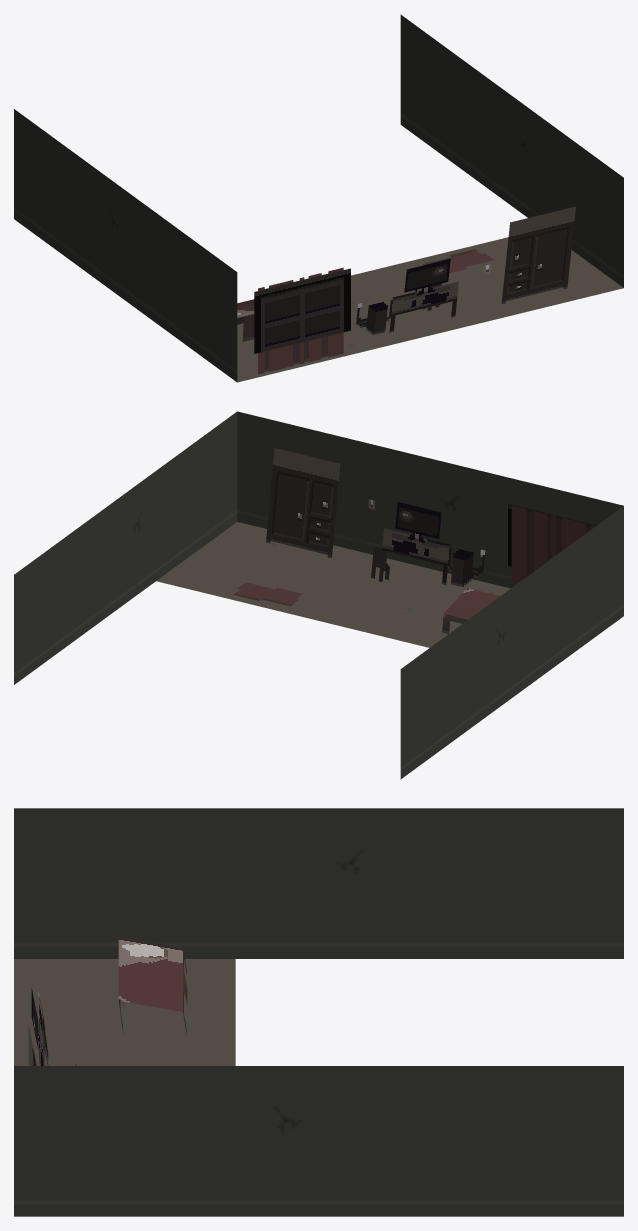
File: BedRoom.fbx
3 views of the same model, one above another, from view 1: azimuth 30°, elevation 25°; view 2: azimuth 150°, elevation 25°; view 3: azimuth 270°, elevation 25° (orthographic). The views are drawn at different scales.
Visible parts, largest first — view 1: BR_WallRight, BR_WallLeft, BR_Ground, BR_Window1, BR_Almira, BR_Computer, BR_Curtain, BR_Rug; view 2: BR_WallLeft, BR_WallRight, BR_Wall, BR_Ground, BR_Almira, BR_Computer, BR_Curtain, polySurface1, BR_Rug; view 3: BR_WallLeft, BR_WallRight, BR_Ground, polySurface1, BR_Computer.
Part boxes in pixels (x1,y1,x2,y2): BR_WallRight: (14, 109, 237, 382); BR_WallLeft: (400, 14, 623, 287); BR_Ground: (237, 237, 623, 382); BR_Window1: (254, 268, 350, 353); BR_Almira: (501, 206, 575, 304); BR_Computer: (356, 259, 458, 335); BR_Curtain: (258, 267, 343, 374); BR_Rug: (423, 249, 493, 273); BR_WallLeft: (14, 411, 237, 684); BR_WallRight: (400, 506, 623, 779); BR_Wall: (237, 411, 623, 588); BR_Ground: (156, 522, 510, 647); BR_Almira: (266, 448, 340, 558); BR_Computer: (382, 502, 485, 587); BR_Curtain: (511, 505, 595, 587); polySurface1: (442, 588, 499, 633); BR_Rug: (233, 582, 302, 606); BR_WallLeft: (14, 1066, 623, 1216); BR_WallRight: (14, 808, 623, 958); BR_Ground: (14, 959, 235, 1065); polySurface1: (111, 935, 187, 1034); BR_Computer: (31, 988, 48, 1065).
Size of the model in its own units: 2200 by 607 by 2200.
Materials: 10 (10 with a texture image).
